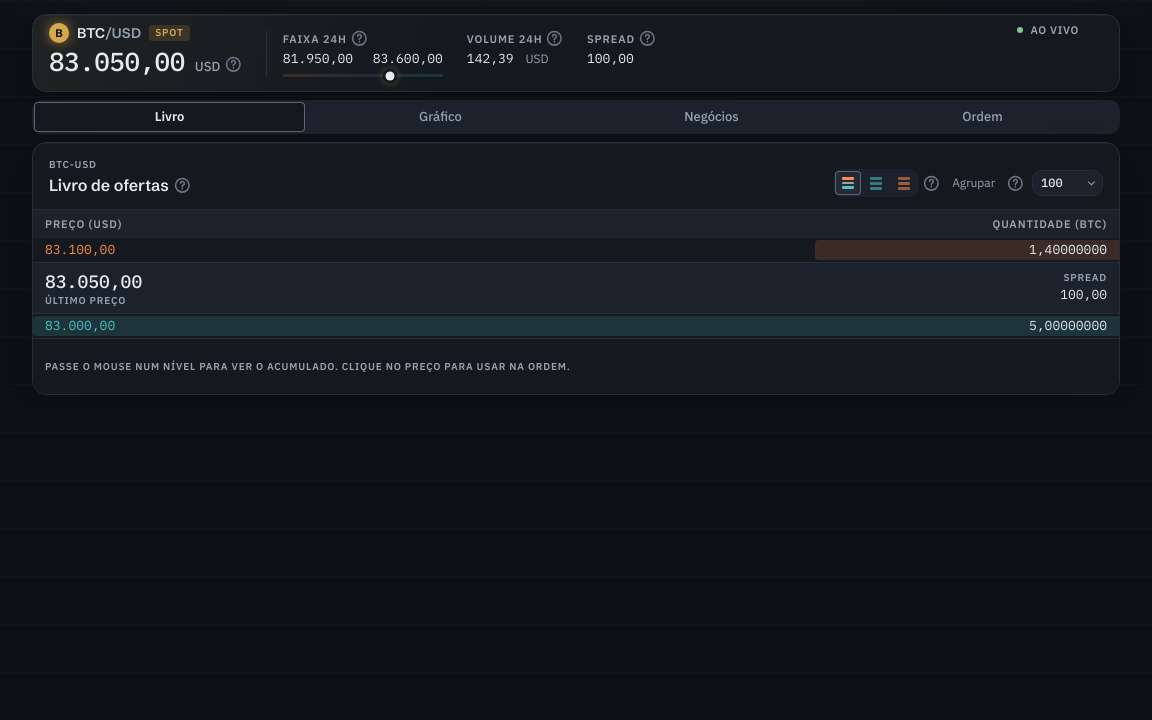
Test: Market page › Should open the order tab with the price picked in the book on a phone
Click the button named "Usar o preço 83.100,00": x=80, y=250 [43,240,117,260]
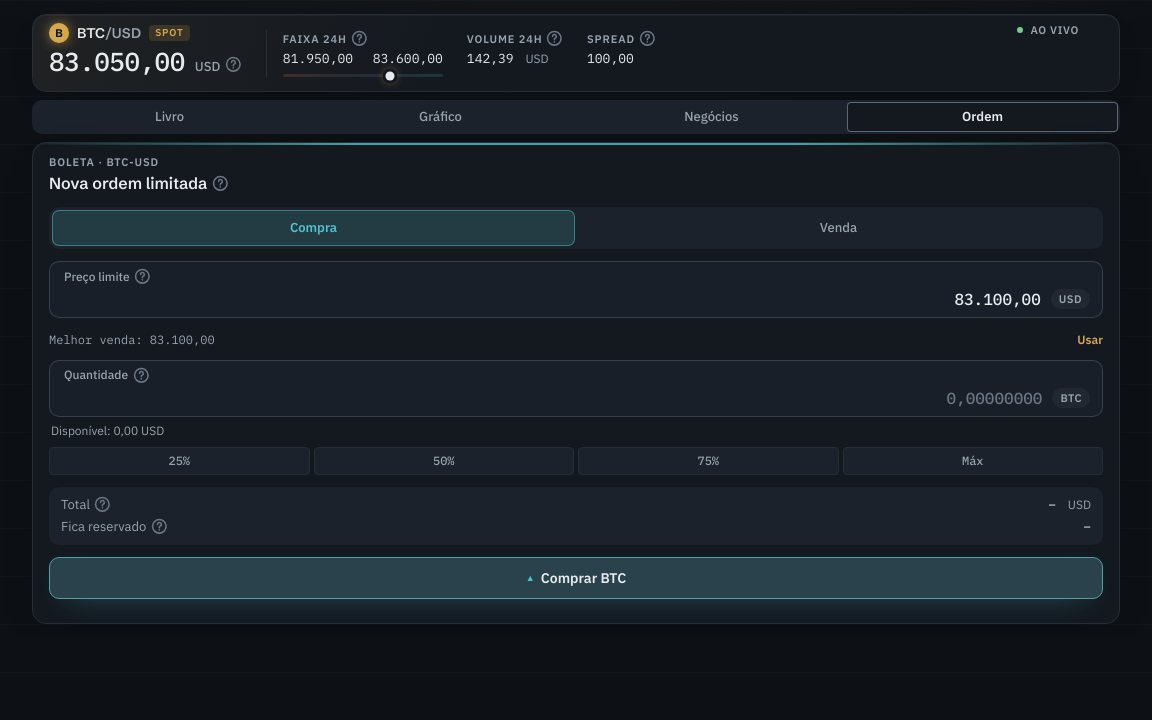
Expected: the tab "Ordem" is shown, [847,102,1118,132]
Expected: the panel "ordem" is shown
Expected: the field labelled "Preço limite" holds "83.100,00", [64,287,1041,311]
